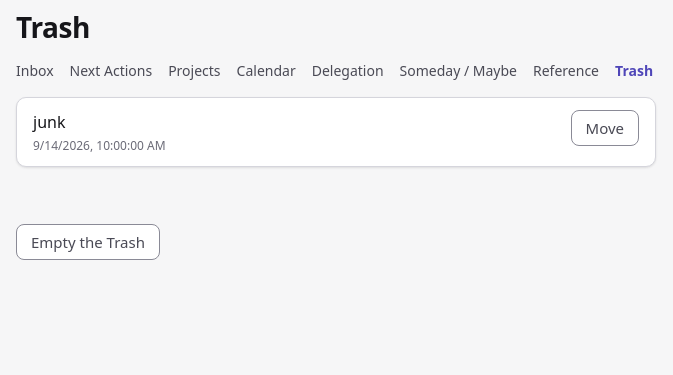
Test case: emptying the Trash › keeps the items and explains itself when the discard fails
This screenshot has width=673, height=375.
Expected: the text "junk" is shown, 33,111 -> 66,133
Click the button "Empty the Trash": (88, 242) 16,224 -> 160,260
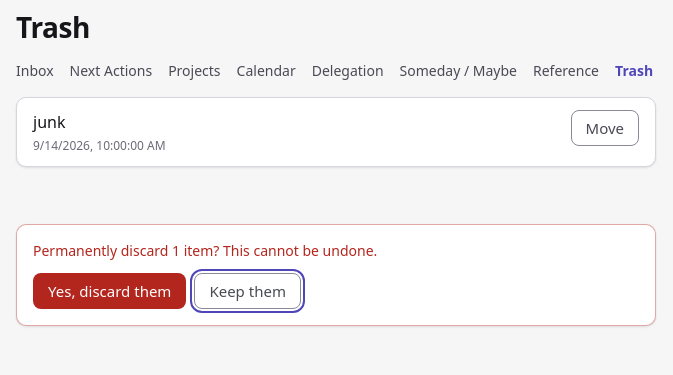
Click the button "Yes, discard them": (110, 291) 33,273 -> 186,309
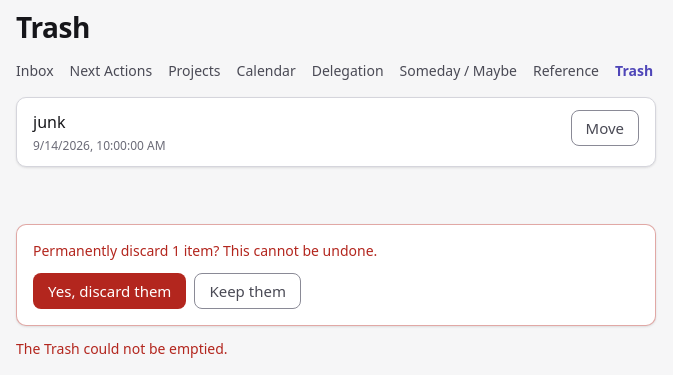
Expected: the text "junk" is shown, 33,111 -> 66,133
Now the message named "trash purge error" shows "could not be emptied", box 16,339 -> 228,358
